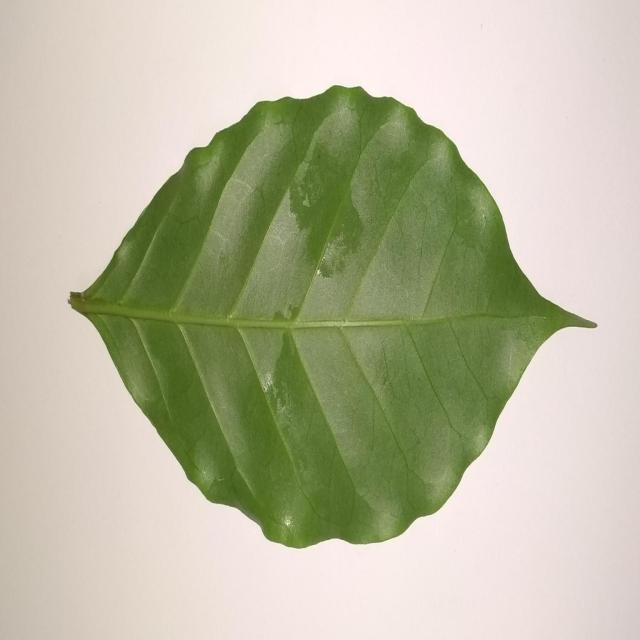Sanas: (68, 86, 597, 552)
